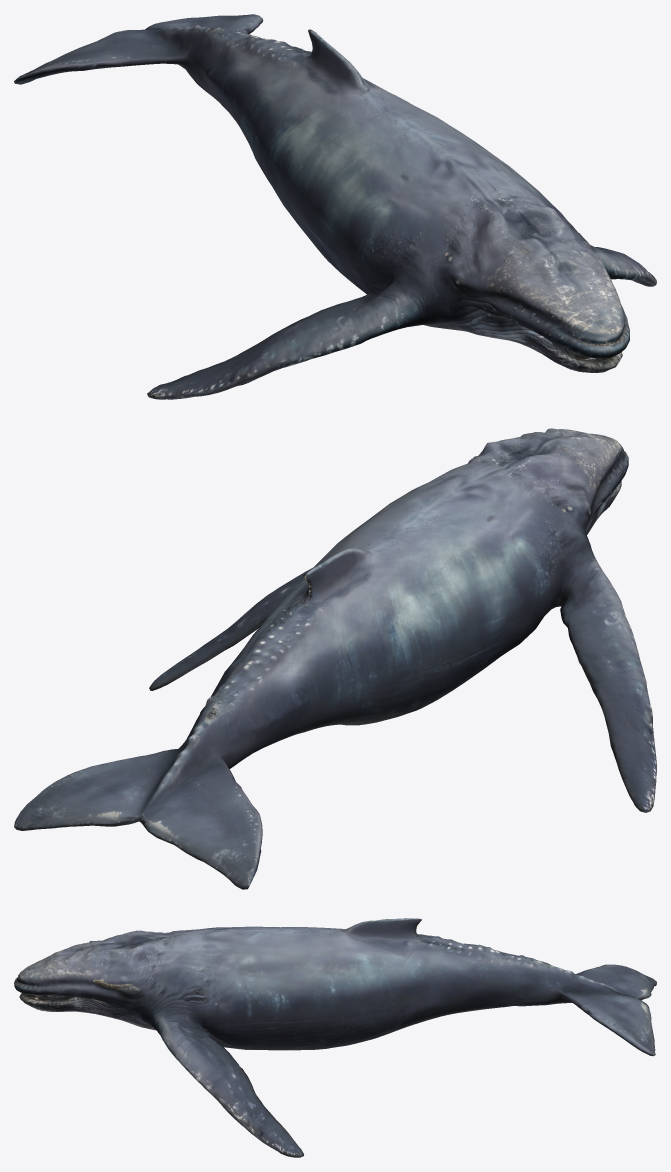
The model's file is ballena.fbx.
The picture shows the model from 3 angles, top to bottom: view 1: azimuth 30°, elevation 25°; view 2: azimuth 150°, elevation 25°; view 3: azimuth 270°, elevation 25°; orthographic projection. The views are drawn at different scales.
Parts seen in each view (by area): view 1: Mesh_0; view 2: Mesh_0; view 3: Mesh_0.
Boxes of the visible parts, bbox=[...] form: Mesh_0: bbox=[14, 14, 656, 399]; Mesh_0: bbox=[14, 428, 656, 889]; Mesh_0: bbox=[14, 918, 656, 1157].
Size of the model in its own units: 119 by 54.99 by 199.
1 material, 1 textured.
